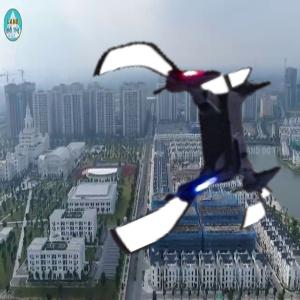drone: (67, 22, 298, 253)
